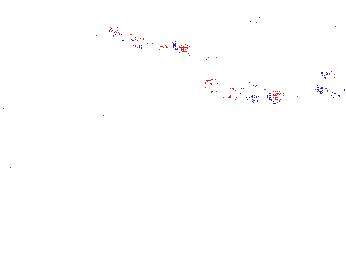X-ray fish: (79, 106, 113, 143)
redtail glassfish: (102, 23, 189, 57), (198, 76, 283, 108), (308, 81, 346, 102), (318, 65, 346, 82)
